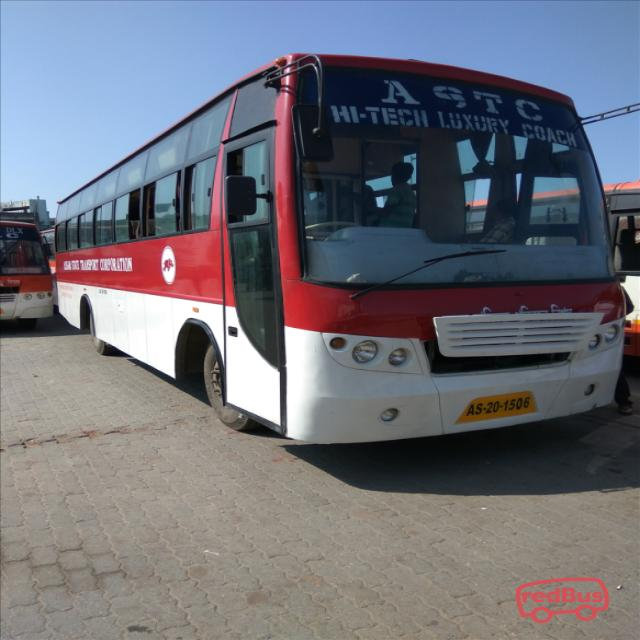Bus: (36, 37, 638, 448), (463, 189, 640, 325), (0, 196, 88, 341)
